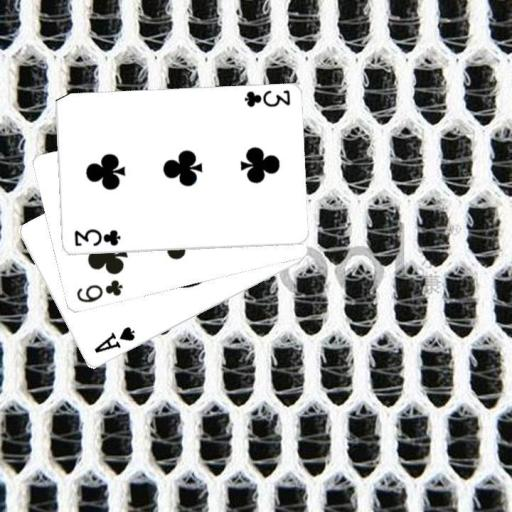3C: (71, 226, 122, 248), (241, 87, 292, 109)
6C: (73, 277, 124, 304)
AS: (91, 323, 137, 355)
